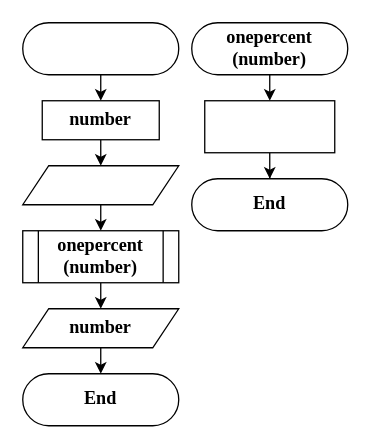
This 371x448 diagram has some shape labels left out. Each missing label, with the centre of its shape:
"Beginning" goes at pixel 100 48.
"Enter a number" goes at pixel 100 184.
"return number / 100" goes at pixel 269 126.
